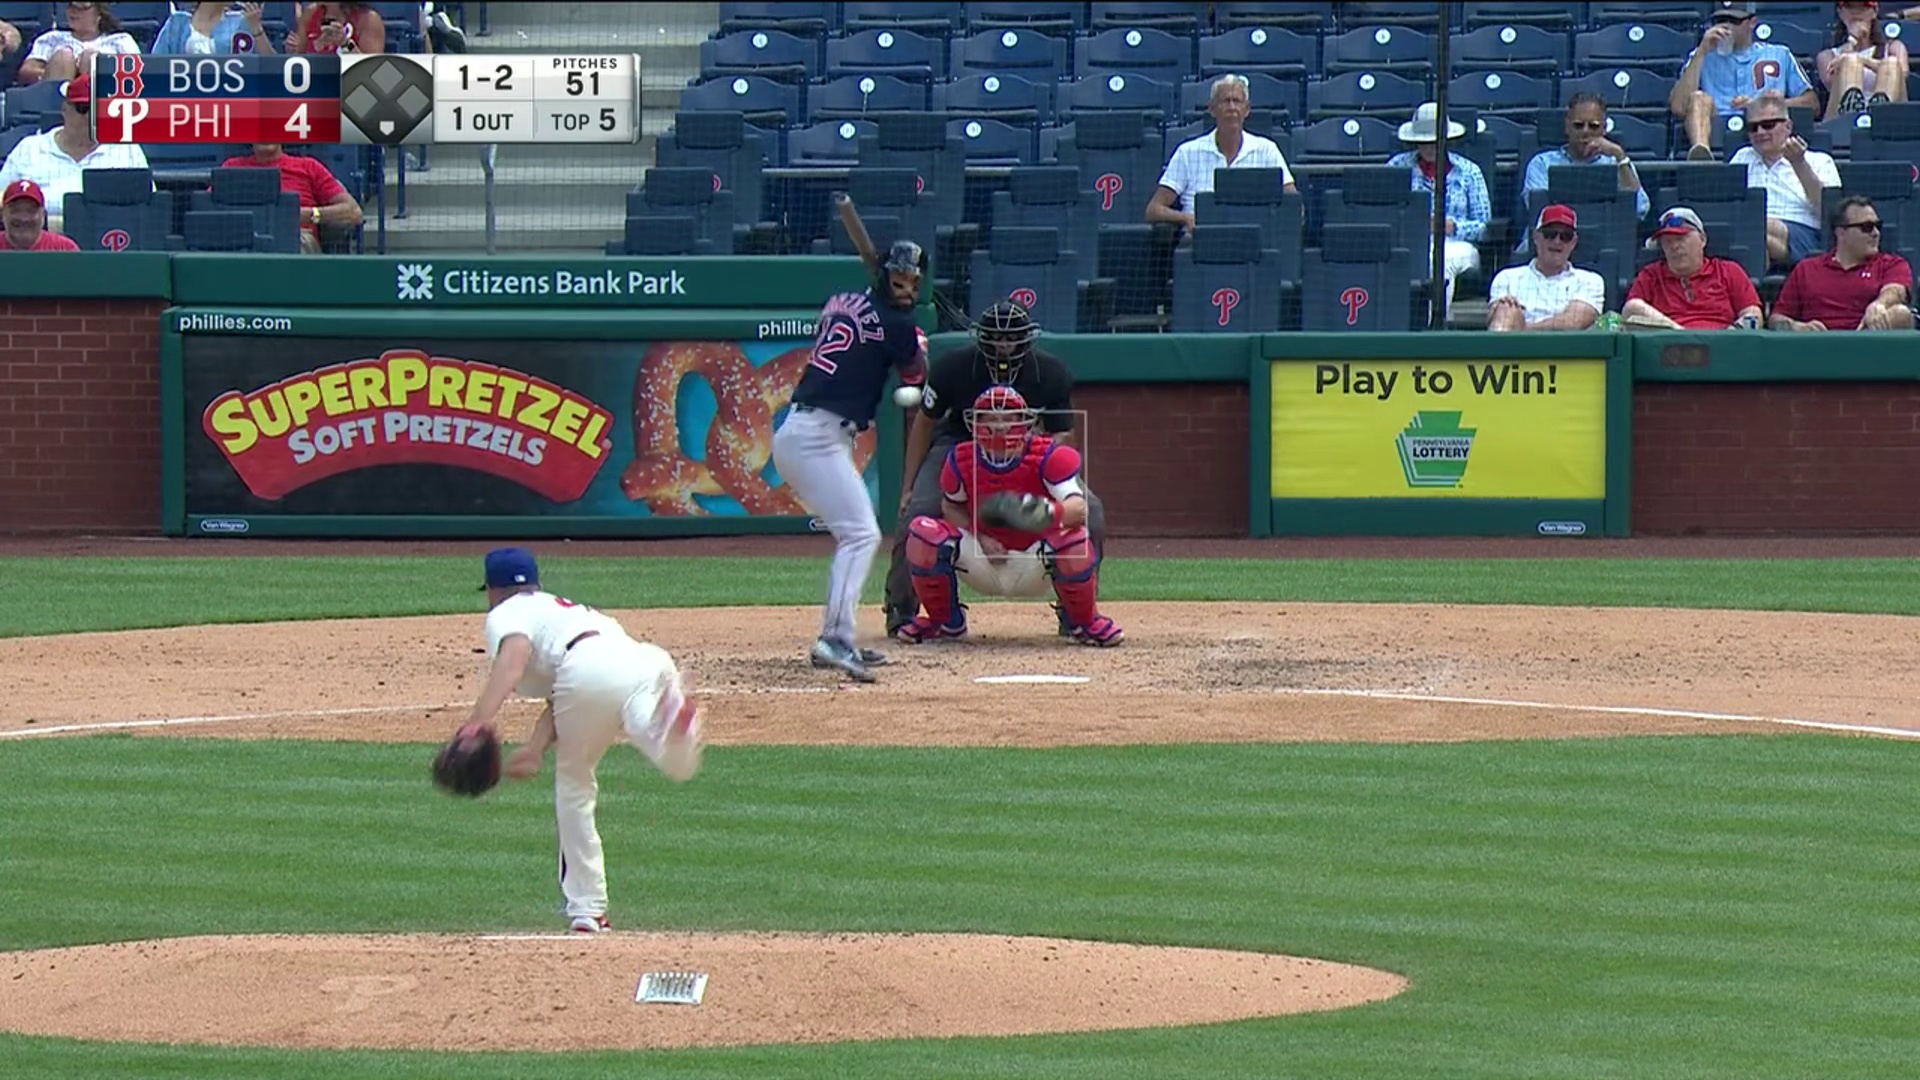baseball: (893, 385, 920, 406)
